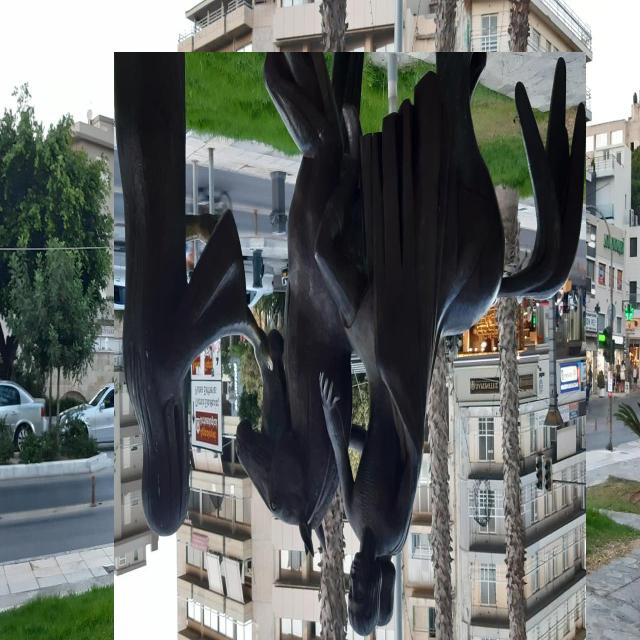Aretousa: (115, 53, 587, 640)
